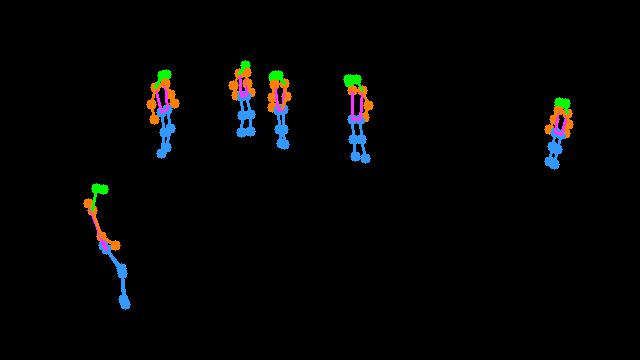normal: (77, 171, 147, 318), (223, 53, 302, 162), (143, 49, 188, 170), (535, 59, 581, 174), (337, 68, 380, 173)
